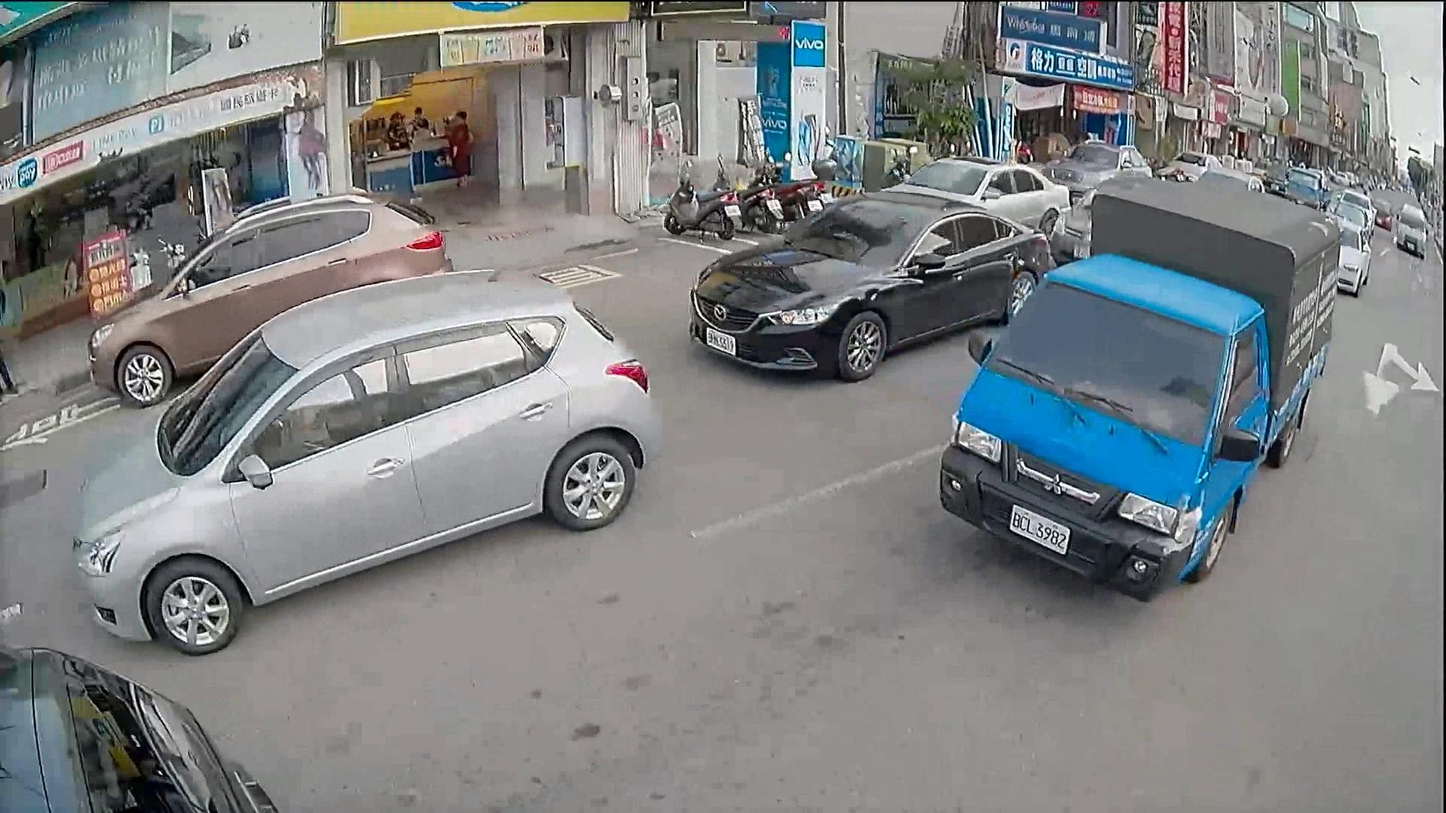person: (441, 108, 473, 184)
